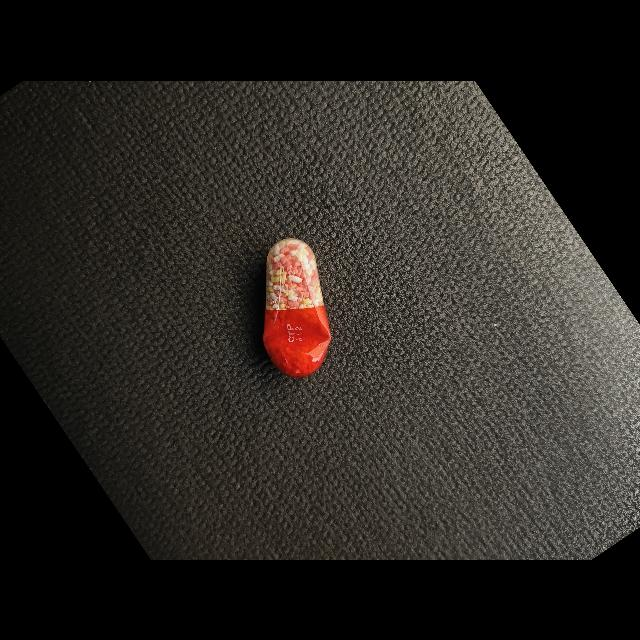Defective Capsule: (263, 238, 331, 377)
